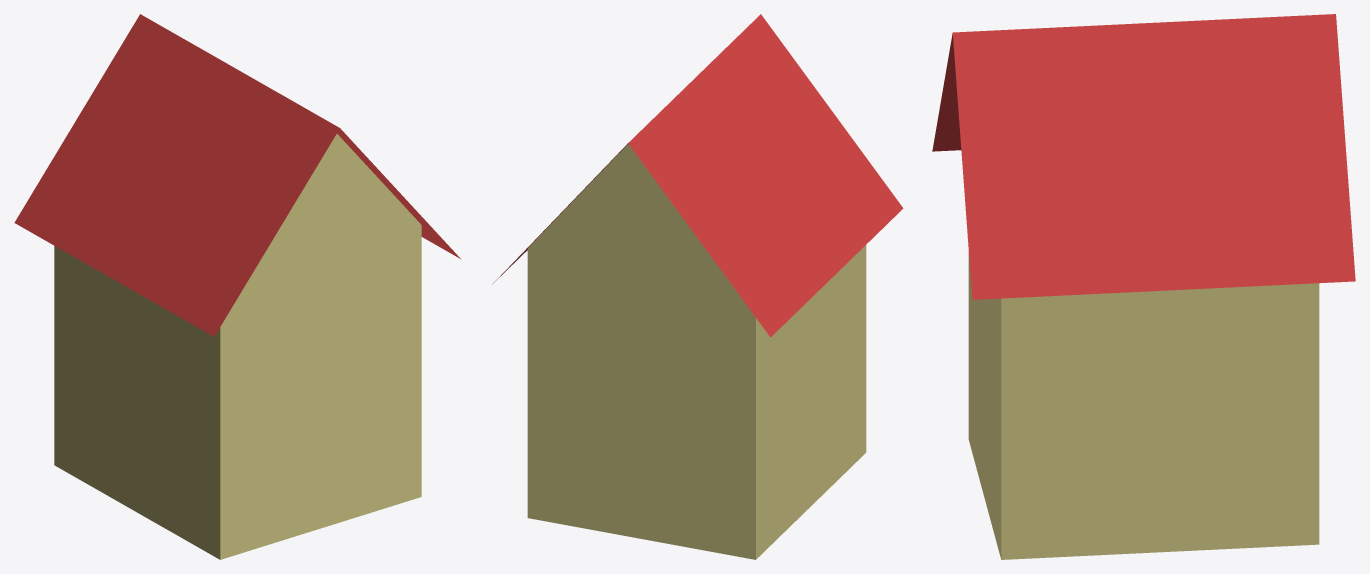
The picture shows the model from 3 angles, left to right: view 1: azimuth 30°, elevation 25°; view 2: azimuth 150°, elevation 25°; view 3: azimuth 270°, elevation 25°; orthographic projection. The views are drawn at different scales.
Visible parts, largest first — view 1: group_5, group_3, group_4; view 2: group_5, group_3, group_4; view 3: group_3, group_5, group_4.
Boxes of the visible parts, x1,y1,x2,y2 form: group_5: [54, 134, 421, 559]; group_3: [54, 14, 339, 336]; group_4: [14, 15, 461, 336]; group_5: [527, 144, 866, 559]; group_3: [492, 16, 903, 336]; group_4: [500, 14, 902, 337]; group_3: [933, 15, 1355, 299]; group_5: [968, 251, 1319, 559]; group_4: [932, 14, 1355, 299].
Bounding box in the file's own units: 12.04 × 12.91 × 15.81.
